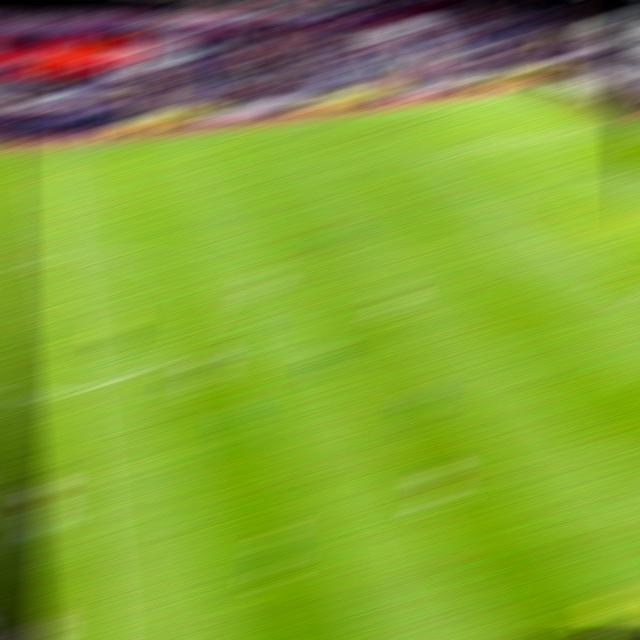bigarea_top_inner: (427, 144, 463, 158)
bigarea_top_outter: (584, 121, 618, 131)
bottom_arc_area_intersection: (589, 269, 624, 284)
corner: (511, 86, 548, 93)
halfcircle_bottom: (53, 375, 98, 403)
halfcircle_top: (37, 247, 82, 268)
midline_top_intersection: (26, 142, 64, 156)
smallarea_top_inner: (599, 166, 634, 179)
top_arc_area_intersection: (487, 193, 524, 206)
